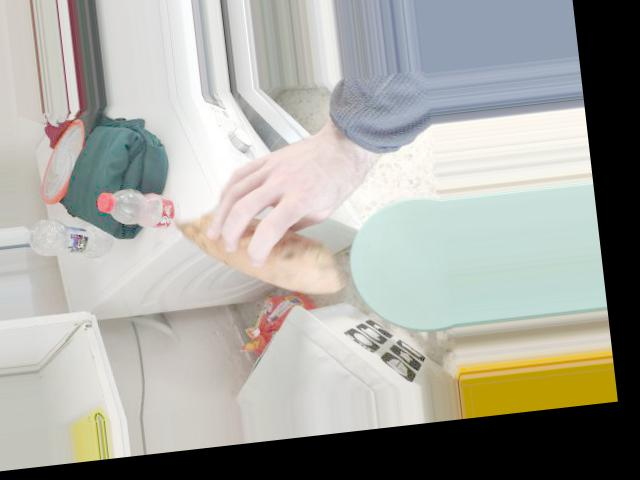sweet_potato: (181, 176, 316, 304)
